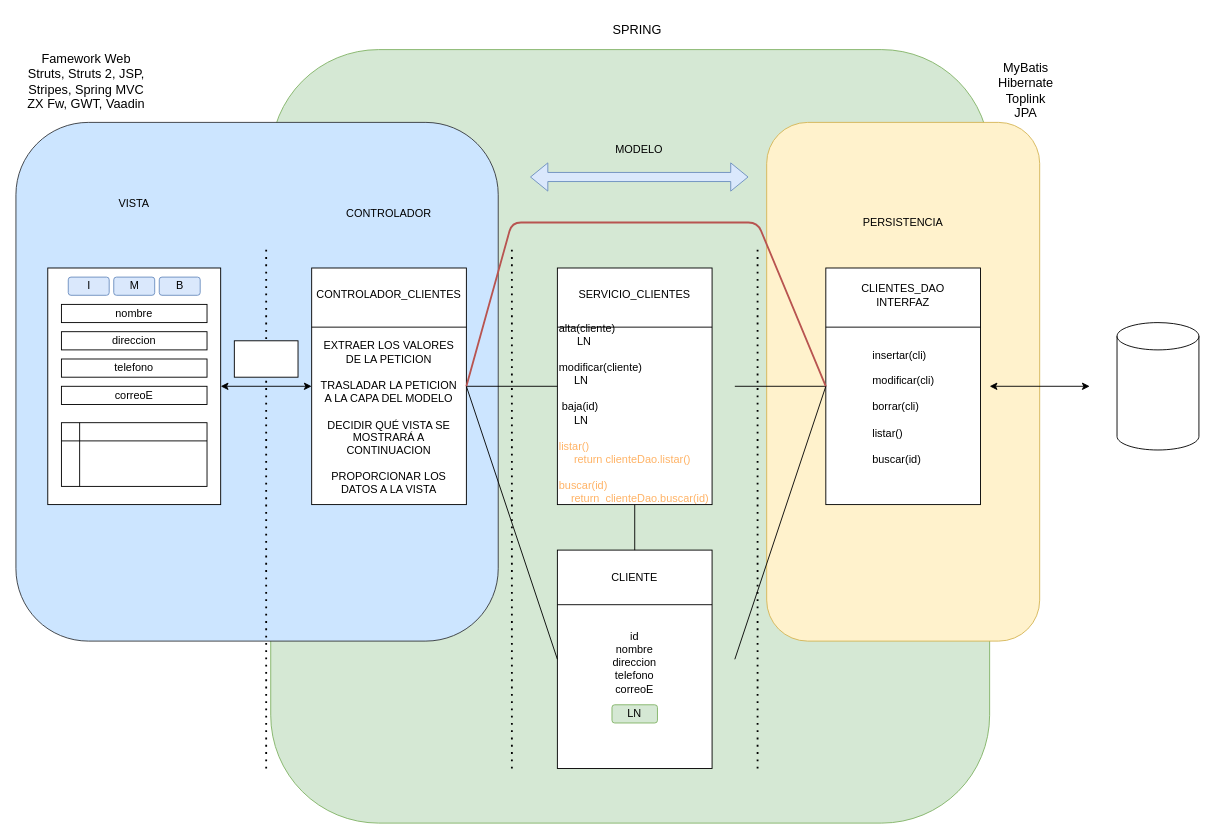
Image size: 1215x839. Some labels were removed from this diagram. The shapes that lost their labels are listed below. From the top down, each one's centre as x and y in pixels, then its label:
At (265,358): "HTTP".
At (1157,386): "BB.DD".
